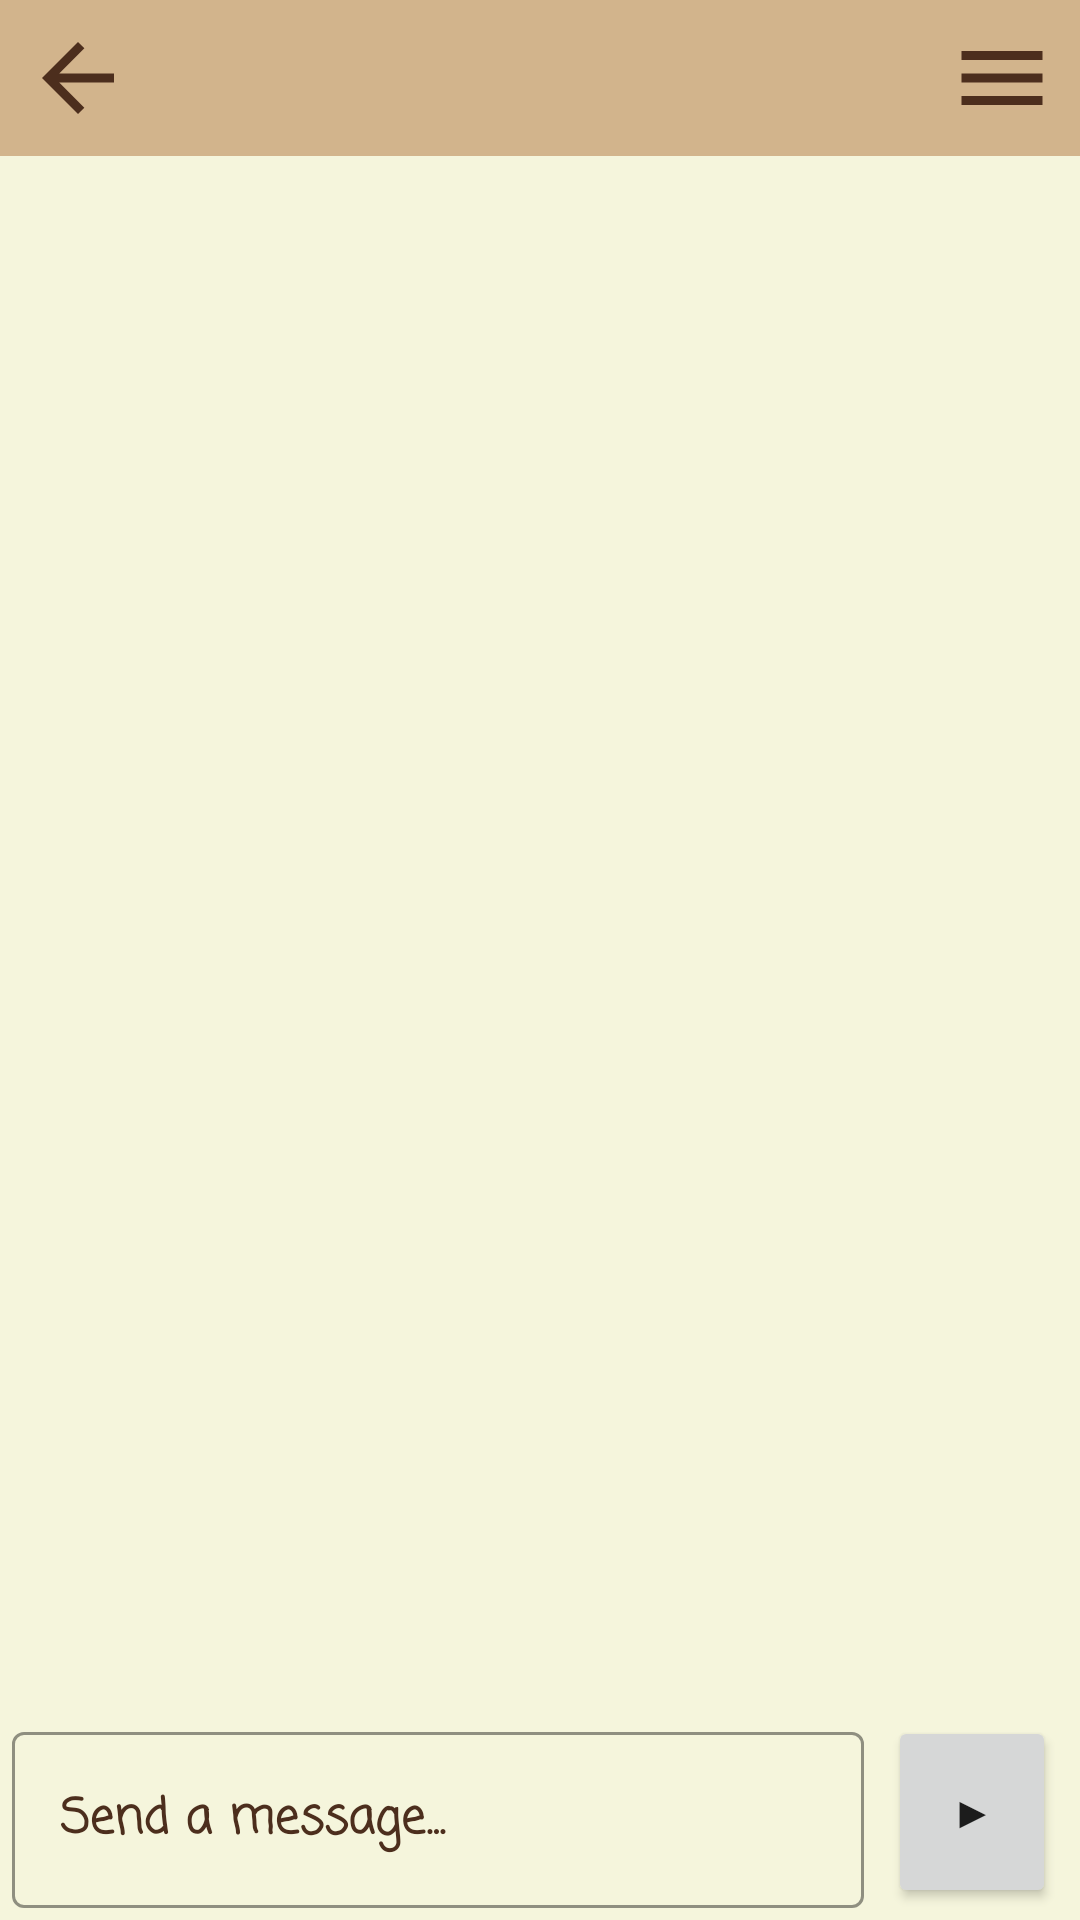

Icon bounding boxes for this 1080*1920 phone screenshot, format [x1, y1, x2, y2]:
arrow back: [42, 42, 114, 114]
menu: [961, 51, 1043, 105]
